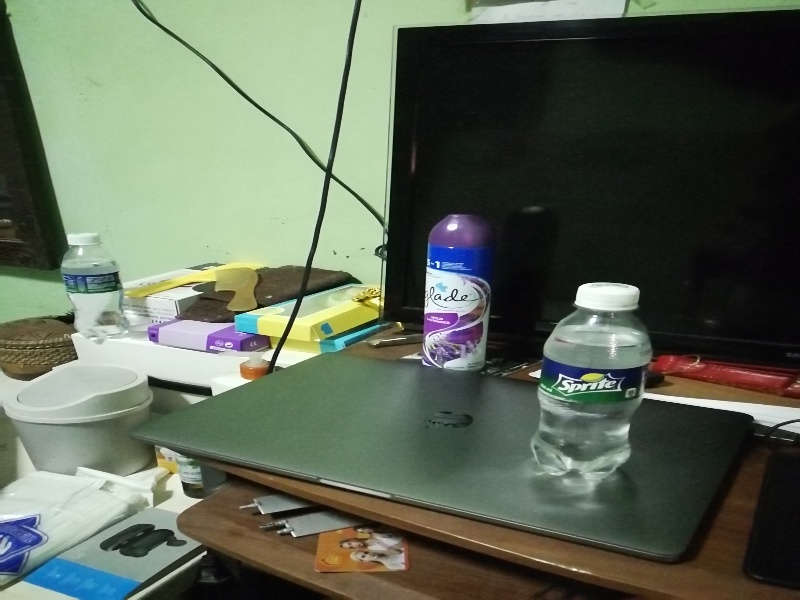PET #1: (528, 281, 655, 486), (57, 231, 132, 345)
